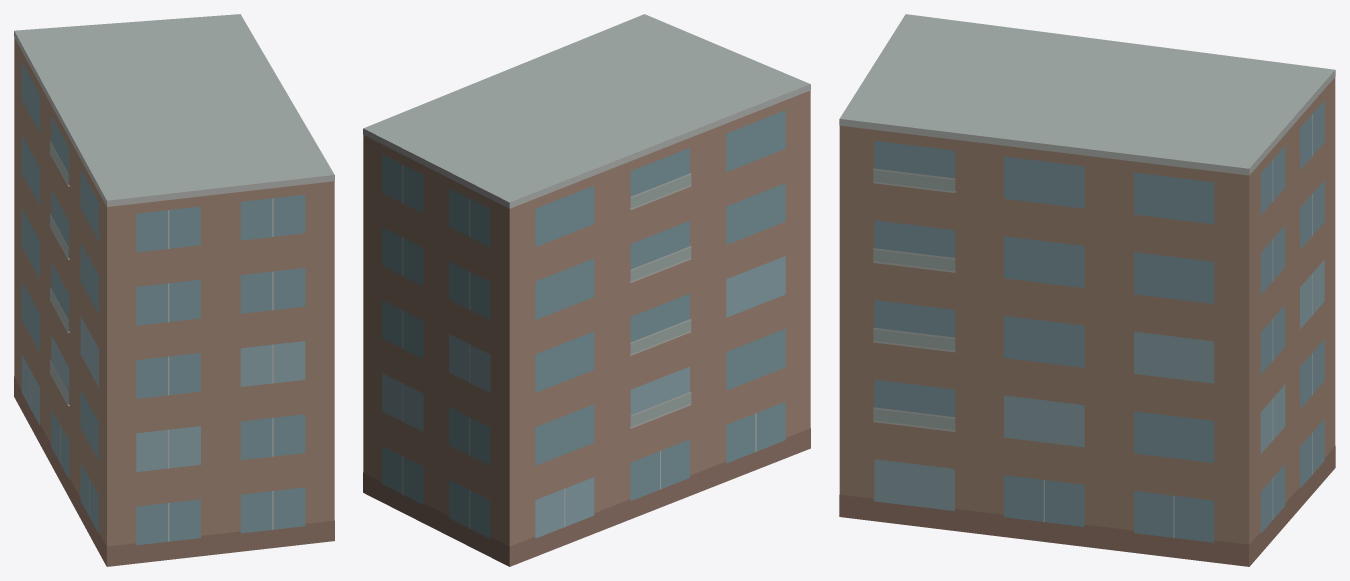
Rendered from survey-upis-32879710.glb.
3 views of the same model, side by side, from view 1: azimuth 30°, elevation 25°; view 2: azimuth 150°, elevation 25°; view 3: azimuth 270°, elevation 25° (orthographic). The views are drawn at different scales.
Visible parts, largest first — view 1: survey-upis-32879710.tmp; view 2: survey-upis-32879710.tmp; view 3: survey-upis-32879710.tmp.
Boxes of the visible parts, x1=… form: survey-upis-32879710.tmp: x1=14, y1=14, x2=334, y2=566; survey-upis-32879710.tmp: x1=363, y1=14, x2=810, y2=566; survey-upis-32879710.tmp: x1=839, y1=14, x2=1335, y2=566.
Size of the model in its own units: 11.94 by 14.3 by 16.16.
